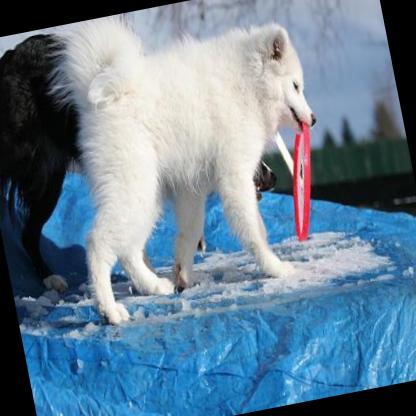Samoyed: (32, 0, 345, 327)
